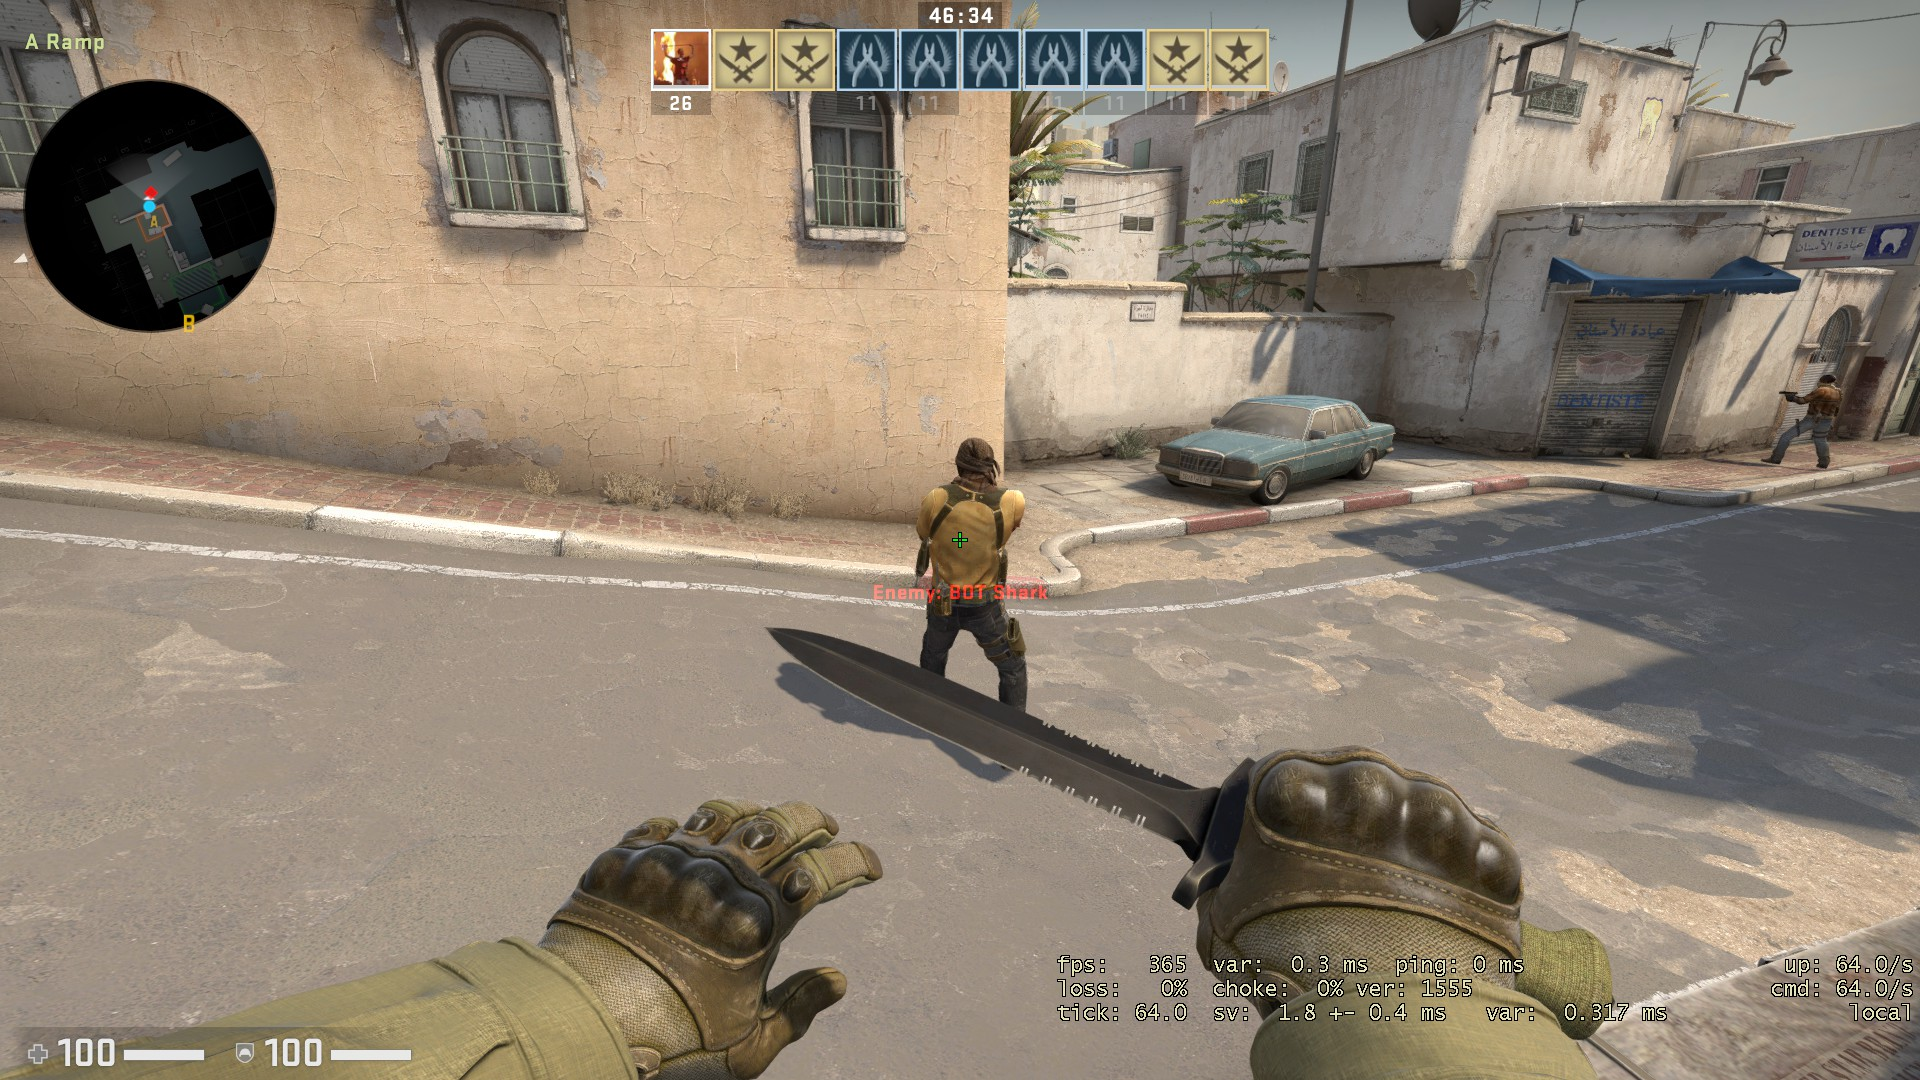player: (907, 427, 1038, 774)
